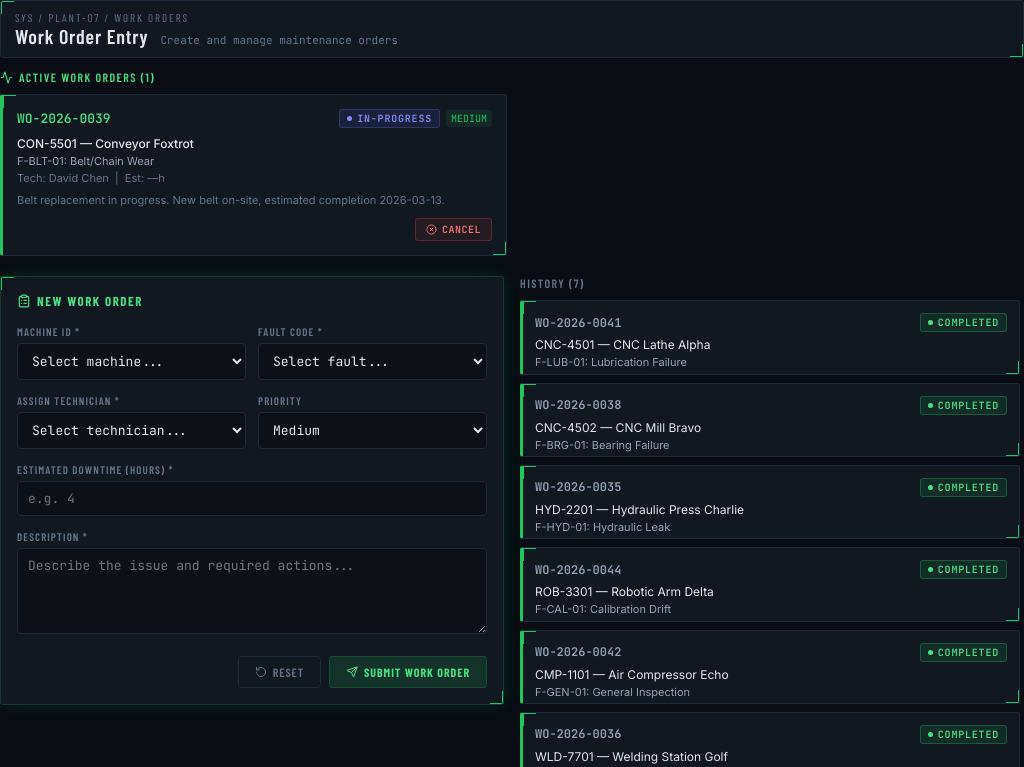
WorkOrders › validates estimated downtime must be a positive number
This screenshot has width=1024, height=767.
In the number field with placeholder "e.g. 4": (252,499) [17,481,487,516], type "-5"
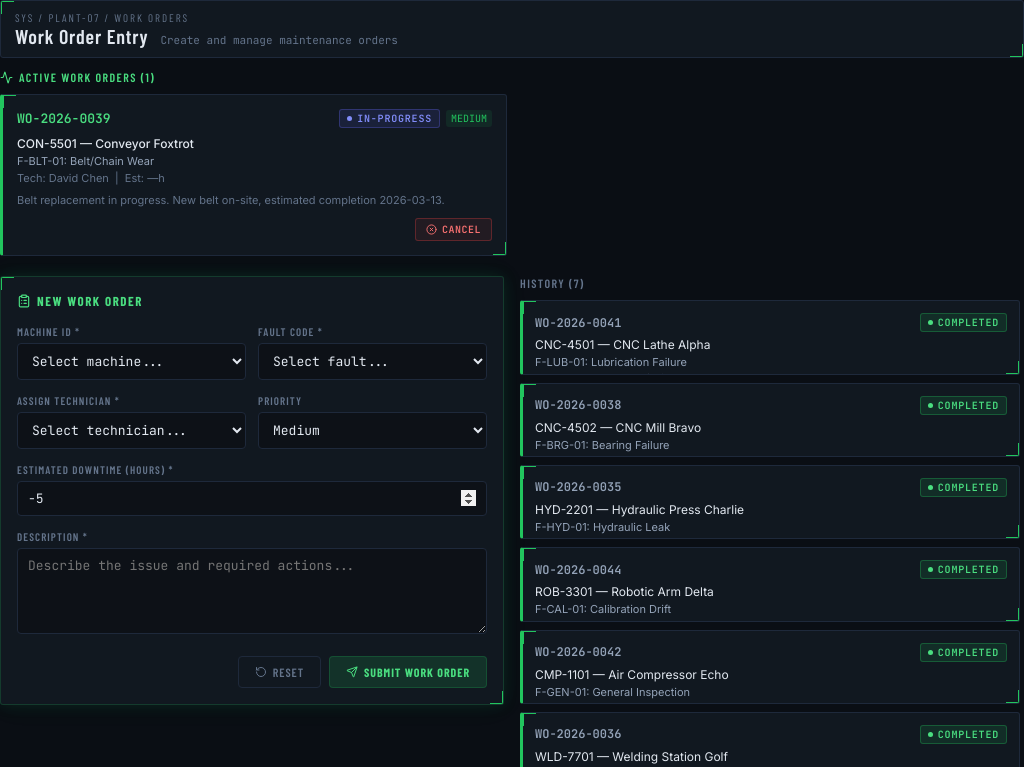
Click the button "Submit Work Order": (408,672) [329,656,487,688]
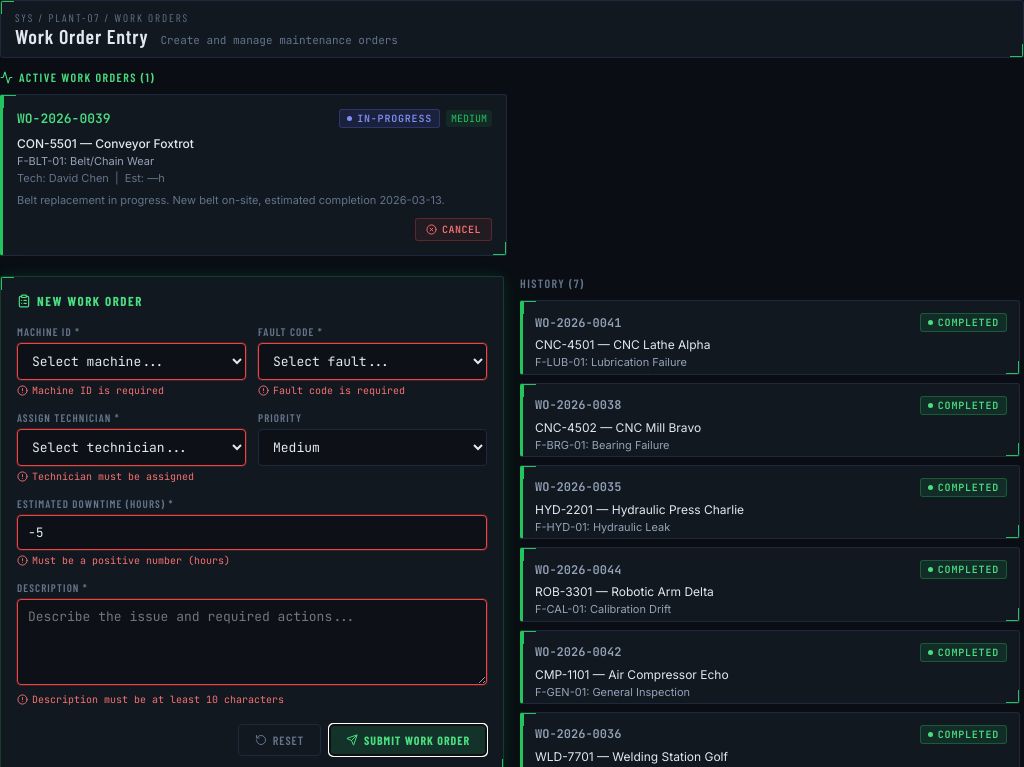
Result: the text "Must be a positive number (hours)" is shown at [17,554,230,567]
